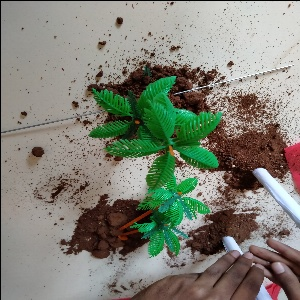plant: (88, 76, 229, 194), (124, 184, 202, 260)
weed: (249, 160, 300, 219)
